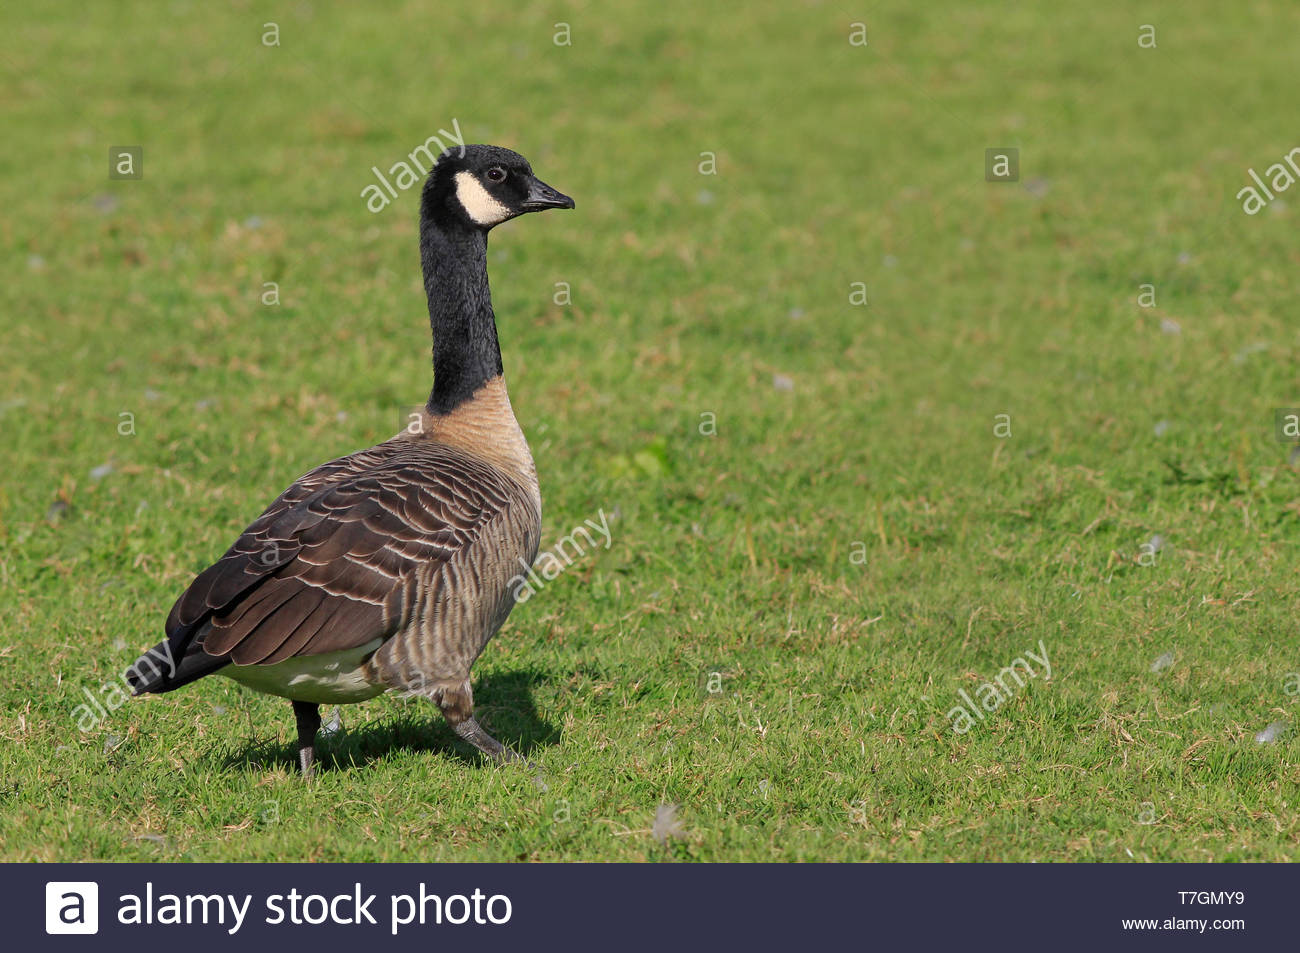goose: (128, 141, 579, 788)
